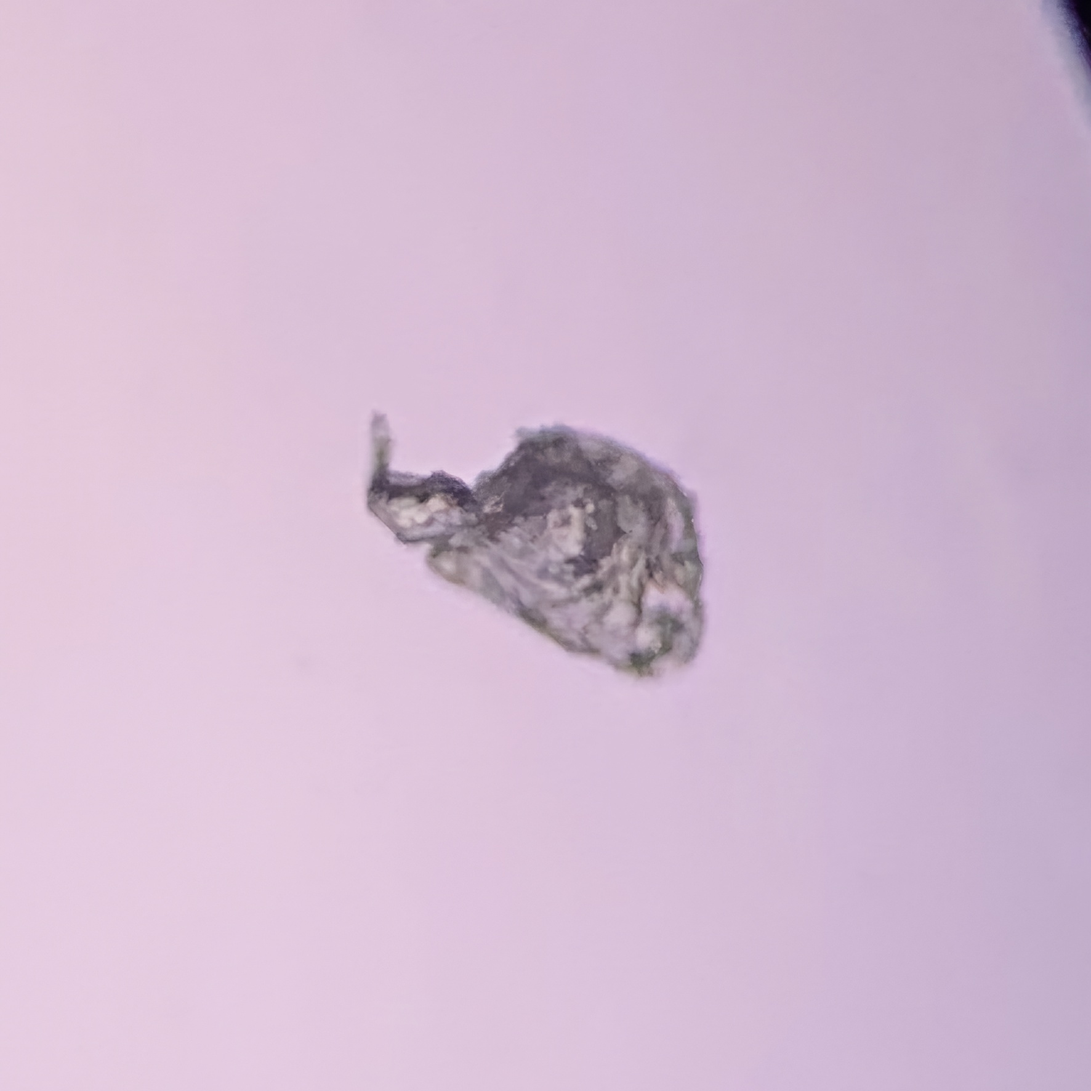microplastic: (358, 395, 725, 693)
